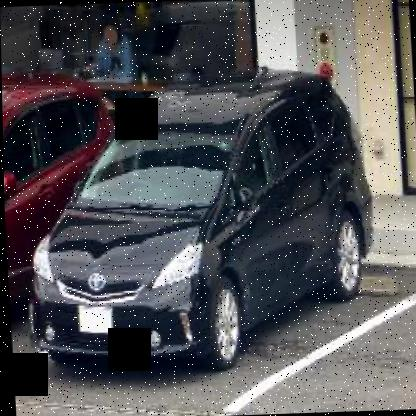not_emergency: (17, 59, 389, 378)
